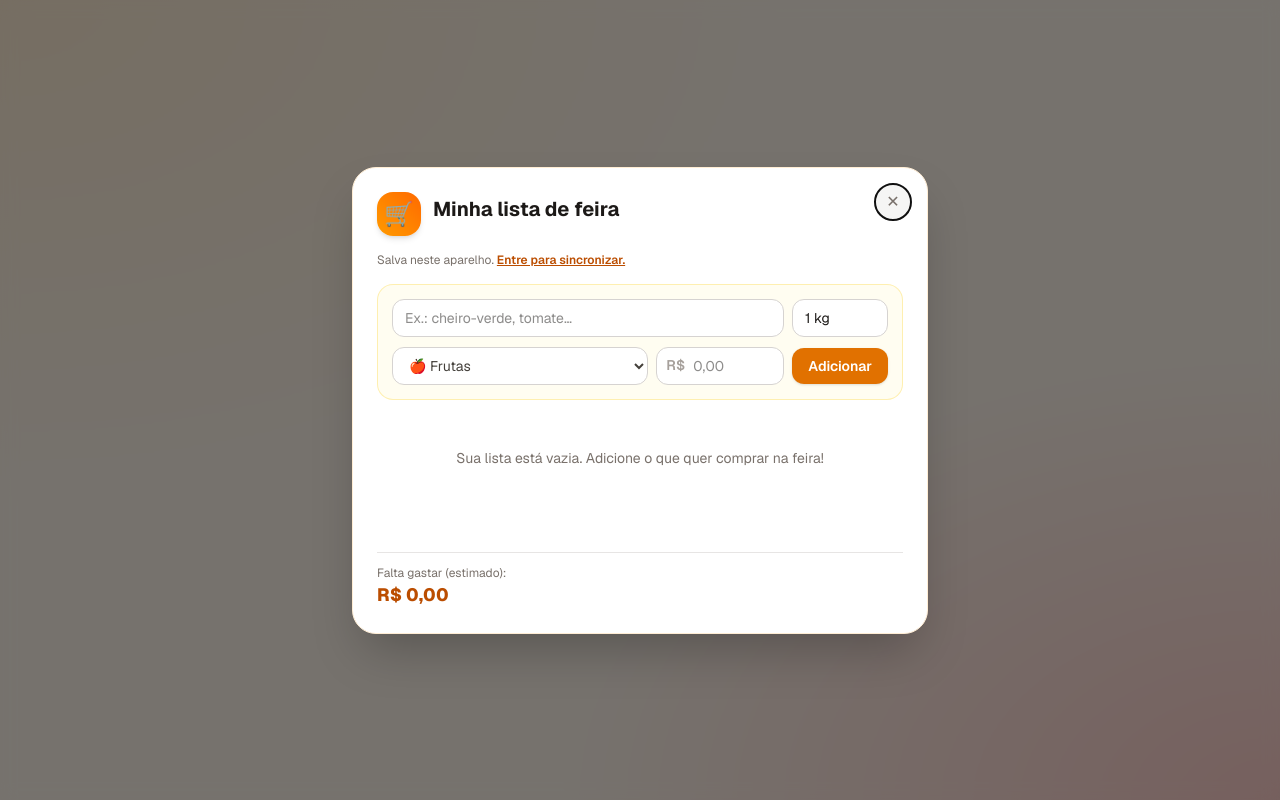
<ShoppingListModal> sem login › adiciona item, calcula total e persiste no aparelho
Expected: the text "Sua lista está vazia. Adicione o que quer comprar na feira!" is shown, [456,448,824,466]
Type "Tomate" into the field named "Item".
click(588, 318); type("Tomate")  # box [392,298,784,336]
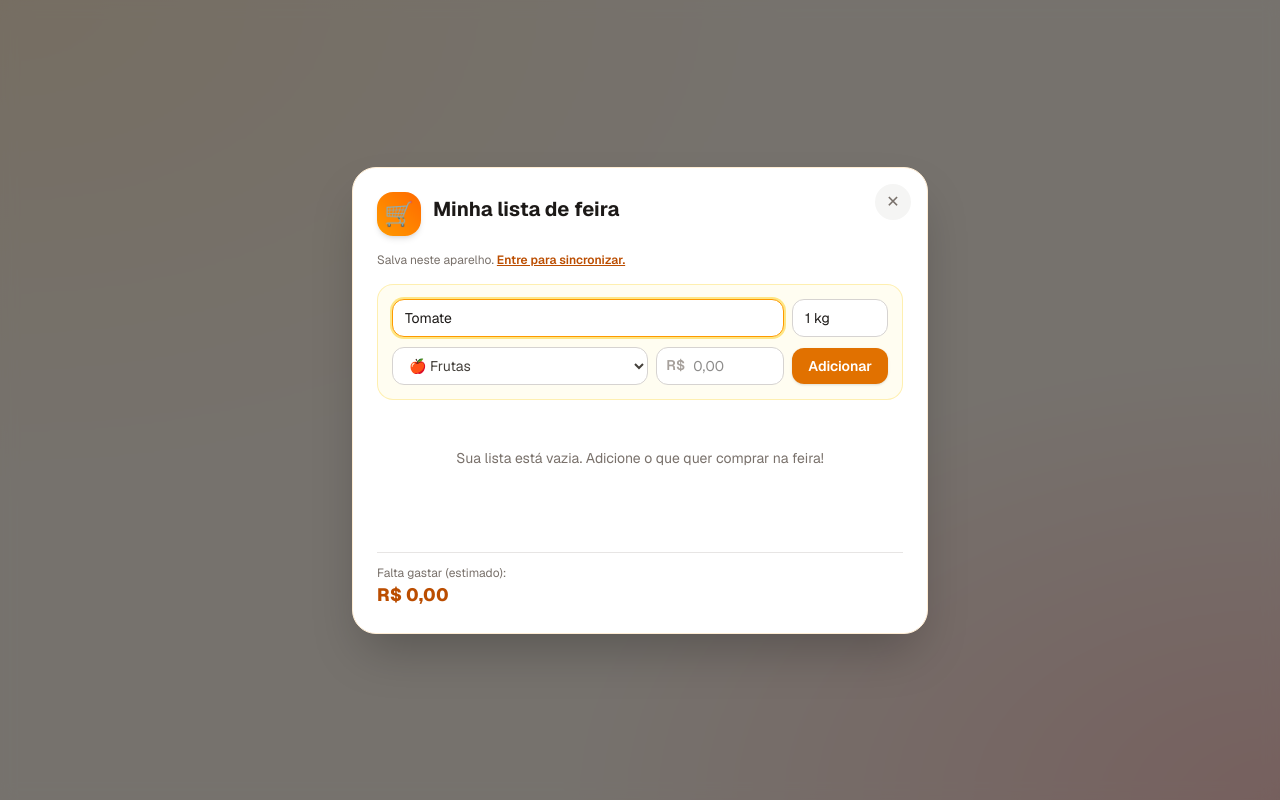
Type "8,50" into the field named "Preço estimado (opcional)".
click(720, 366); type("8,50")  # box [656,346,784,384]
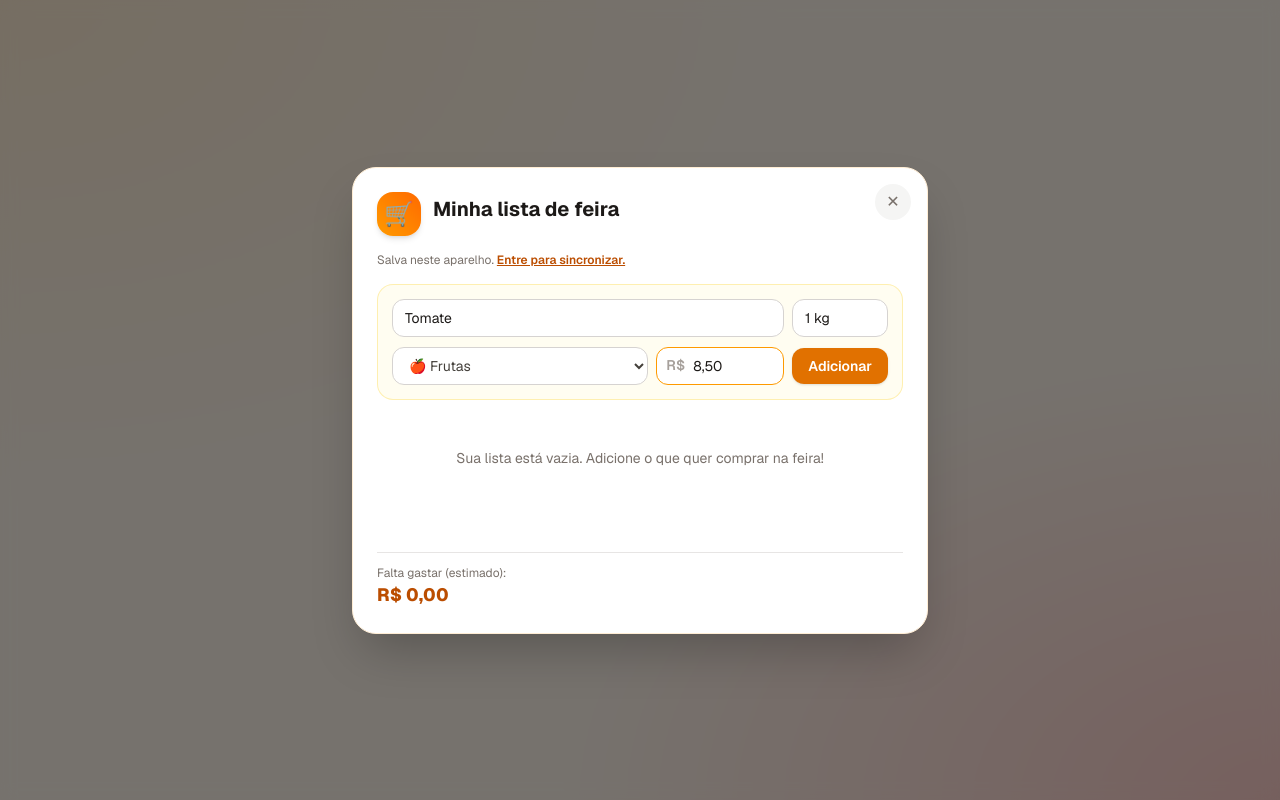
Click the button "Adicionar".
click(840, 366)  # box [792,348,888,384]
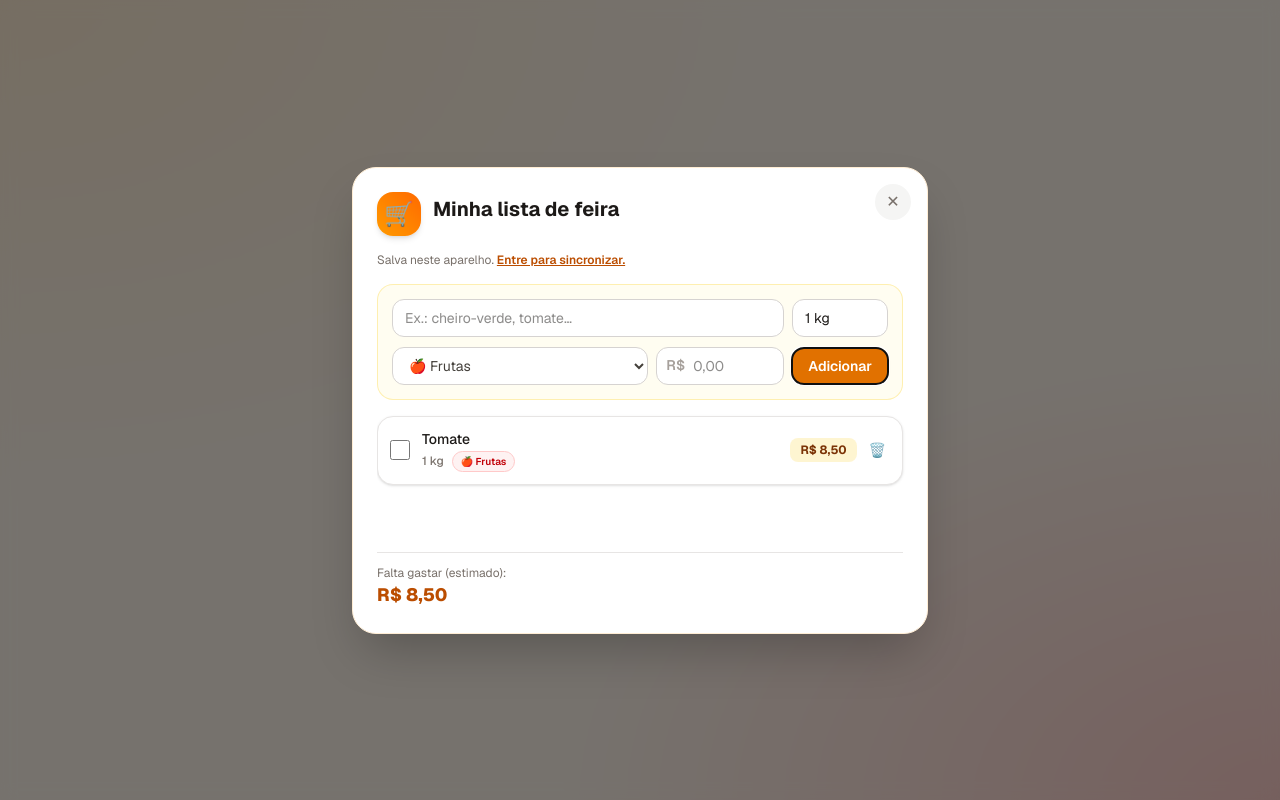
Result: the text "Tomate" is shown at [422,430,470,448]
Result: the text "R$ 8,50" in the row of "Tomate" is shown at [800,442,847,458]
Click the checkbox.
click(400, 450)  # box [390,440,410,460]
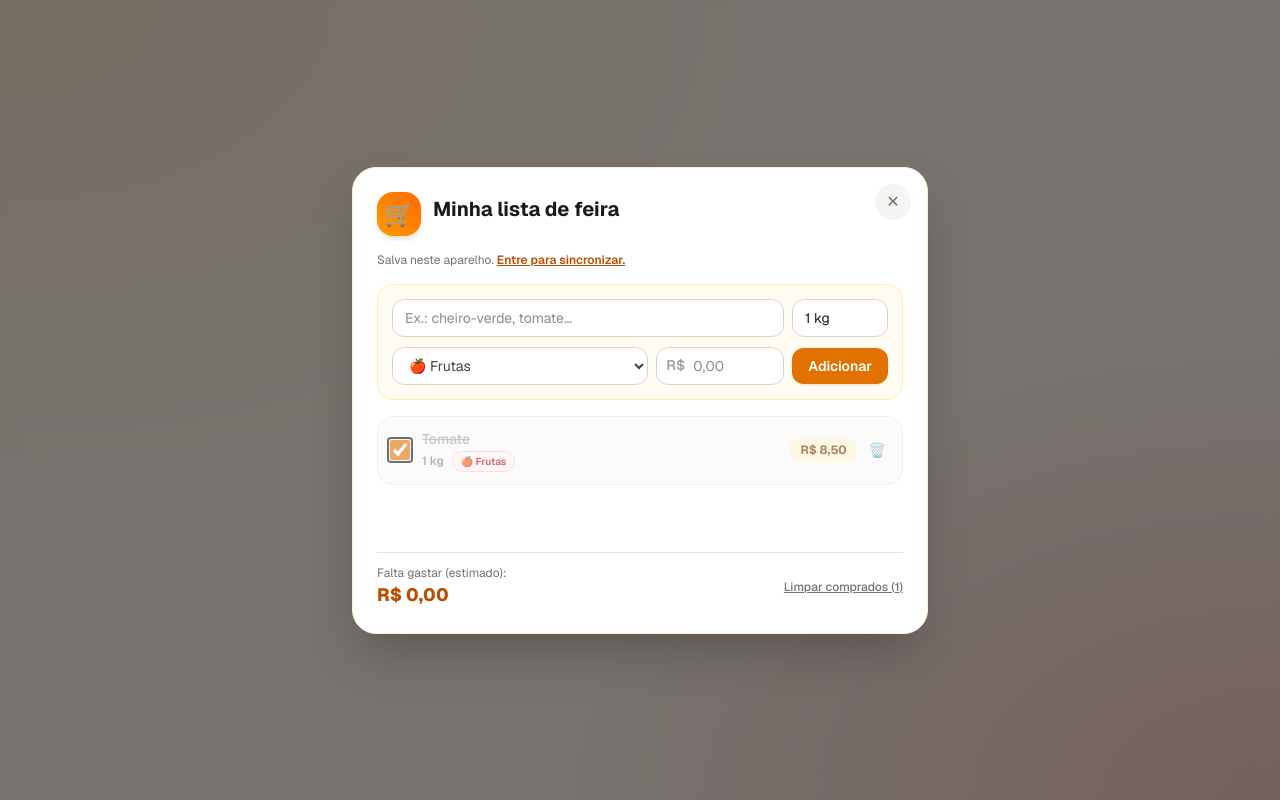
Result: the text "R$ 0,00" is shown at [377,582,449,606]
Click the button "Limpar comprados (1)".
click(843, 586)  # box [784,578,903,594]
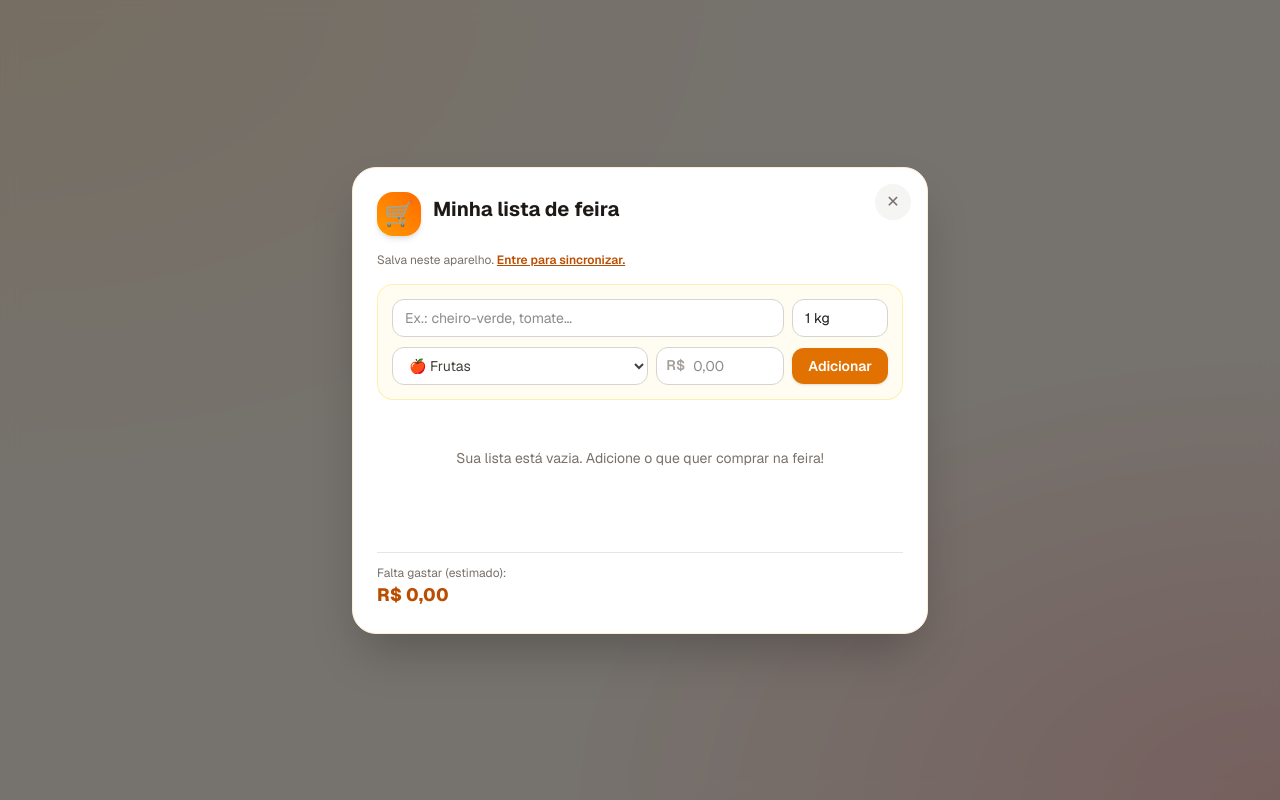
Result: the text "Sua lista está vazia. Adicione o que quer comprar na feira!" is shown at [456,448,824,466]
